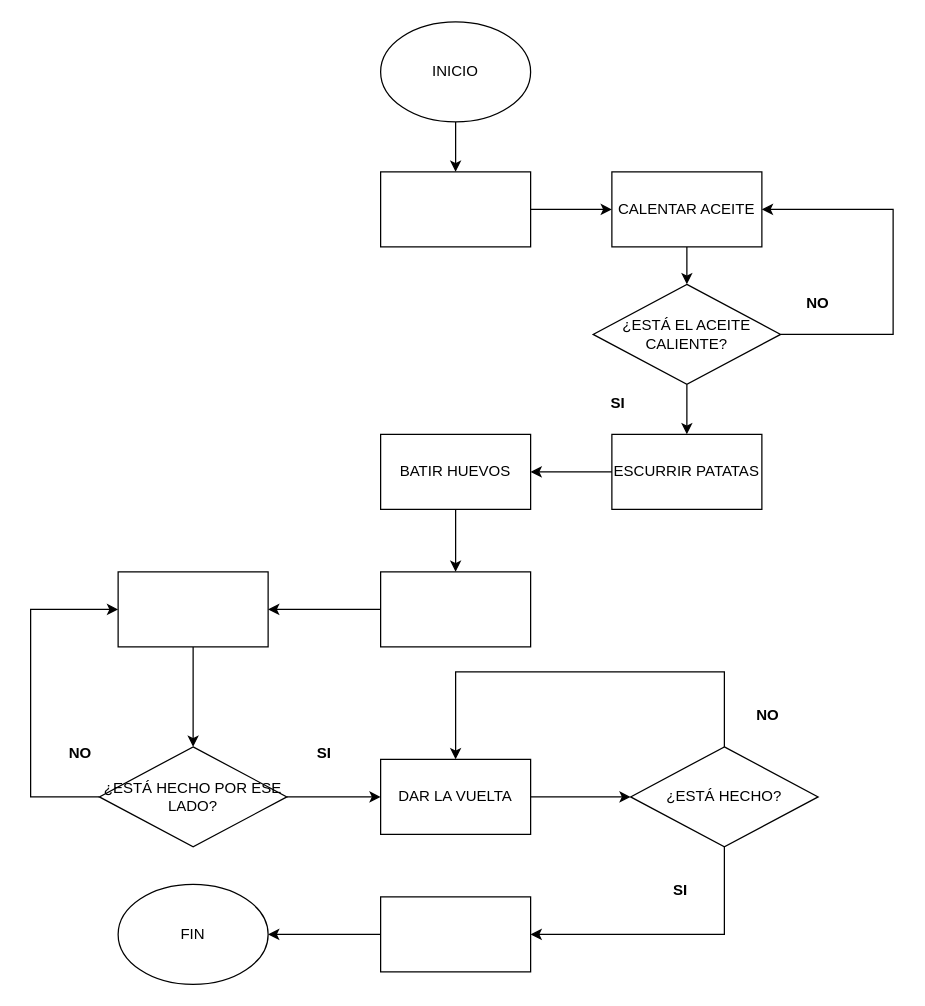
Image size: 925x1006. Some labels were removed from this diagram. Each missing label, with the centre of its shape:
COCINAR MEZCLA: [192,609]
MEZCLAR PATATAS: [455,609]
PELAR PATATAS: [455,209]
SERVIR: [455,934]
